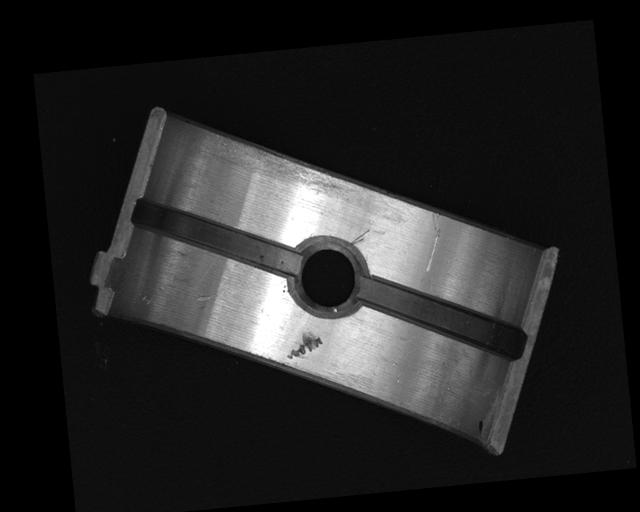blot: (476, 419, 484, 435)
bruise: (283, 329, 323, 359), (194, 292, 216, 303)
gap: (358, 262, 526, 371), (129, 185, 299, 287)
hole: (288, 233, 371, 322)
nick: (411, 208, 444, 282), (348, 228, 371, 245)
scratch: (211, 117, 373, 216)
